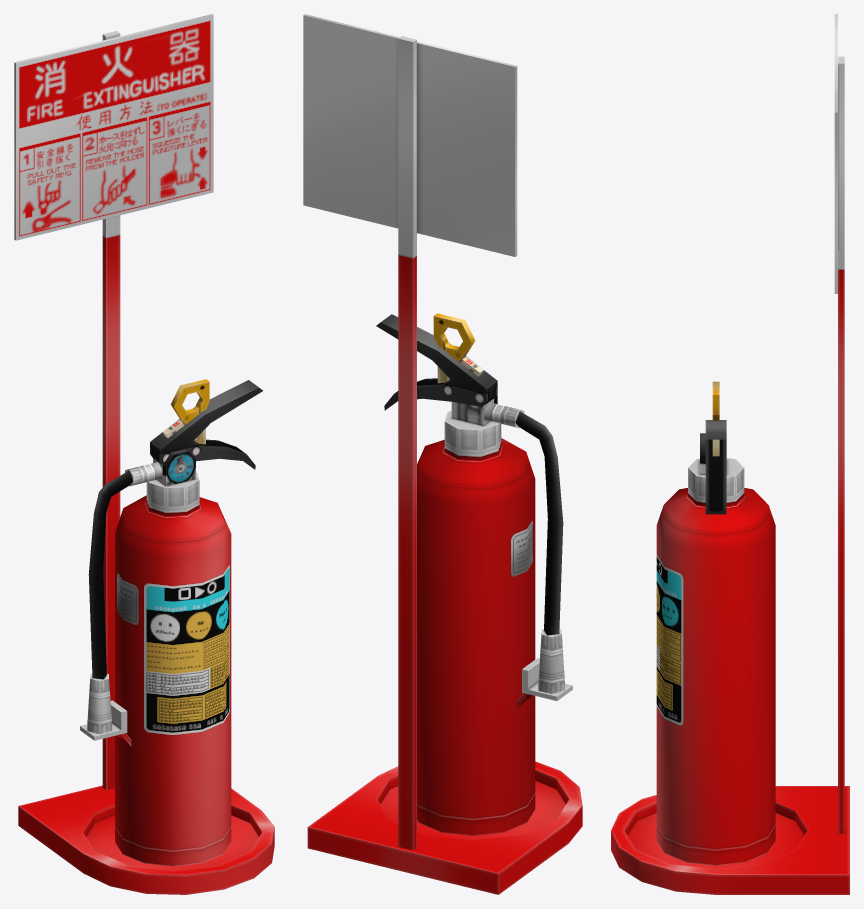
Rendered from KR_Fire_extinguisher_01_01.fbx.
3 renders of one model, left to right at view 1: azimuth 30°, elevation 25°; view 2: azimuth 150°, elevation 25°; view 3: azimuth 270°, elevation 25°, orthographic. The views are drawn at different scales.
Visible parts, largest first — view 1: Fire_extinguisher_stand, Fire_extinguisher_01_01; view 2: Fire_extinguisher_stand, Fire_extinguisher_01_01; view 3: Fire_extinguisher_01_01, Fire_extinguisher_stand.
Part boxes in pixels (x1,y1,x2,y2): Fire_extinguisher_stand: (14,14,274,894); Fire_extinguisher_01_01: (80,379,262,866); Fire_extinguisher_stand: (303,14,582,894); Fire_extinguisher_01_01: (376,313,572,835); Fire_extinguisher_01_01: (656,381,775,865); Fire_extinguisher_stand: (611,14,849,894).
Size of the model in its own units: 21 by 78.5 by 21.5.
